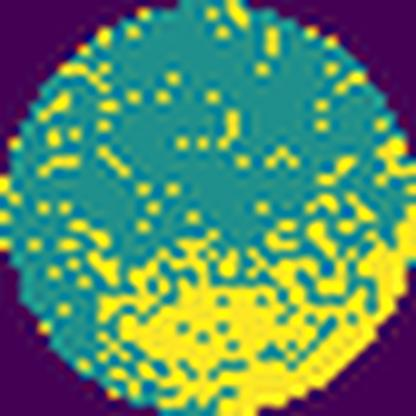Edge-Loc: (94, 188, 414, 416), (366, 134, 415, 185)
